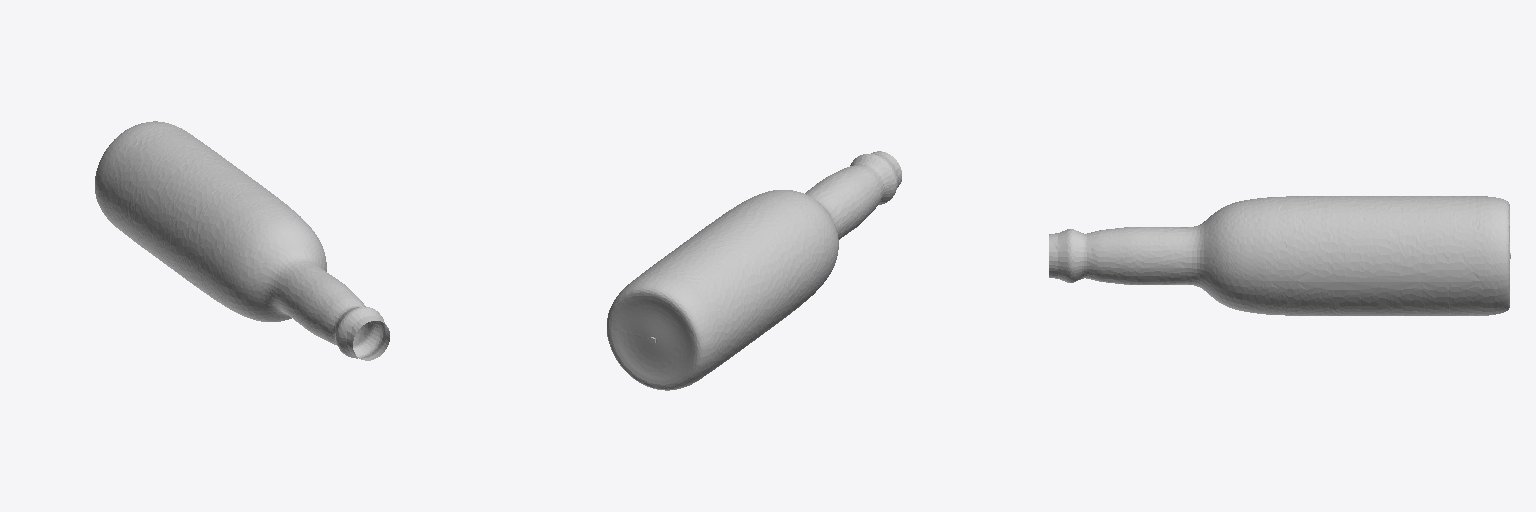
The model's file is Corona.obj.
3 views of the same model, side by side, from view 1: azimuth 30°, elevation 25°; view 2: azimuth 150°, elevation 25°; view 3: azimuth 270°, elevation 25° (orthographic).
Visible parts, largest first — view 1: Corona_4; view 2: Corona_4; view 3: Corona_4.
Boxes of the visible parts, box(x1,y1,x2,y2) form: Corona_4: box(95, 121, 389, 360); Corona_4: box(607, 151, 901, 390); Corona_4: box(1049, 196, 1509, 315).
Size of the model in its own units: 47.46 by 47.1 by 181.